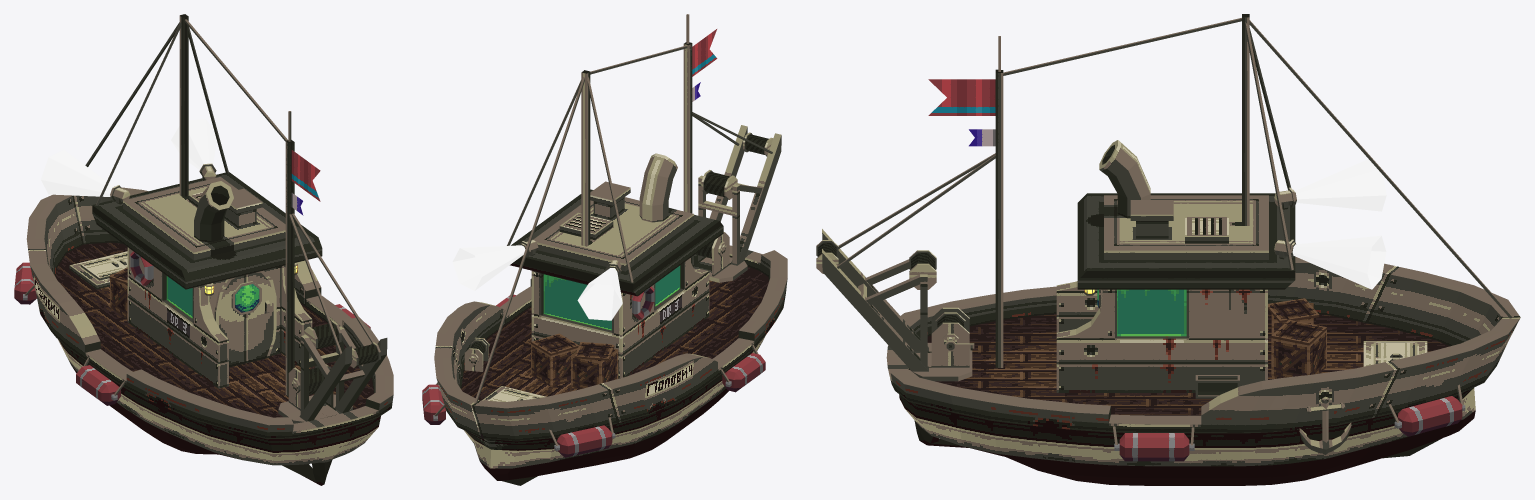
The model's file is Boat2.glb.
The picture shows the model from 3 angles, left to right: view 1: azimuth 30°, elevation 25°; view 2: azimuth 150°, elevation 25°; view 3: azimuth 270°, elevation 25°; orthographic projection. The views are drawn at different scales.
Visible parts, largest first — view 1: boat.001, roof.001, cabin.001, poles, winch.001, door, rope, floodlight.002, Buoey, chimney, floodlight.003, crate closed (+6 smaller); view 2: boat.001, roof.001, cabin.001, winch.001, poles, crate closed, rope, Buoey, windows, floodlight.003, chimney, floodlight.002 (+3 smaller); view 3: boat.001, roof.001, cabin.001, winch.001, poles, rope, Buoey, crate closed, windows, floodlight.003, floodlight.002, chimney (+3 smaller).
Part boxes in pixels (bbox=[...]): boat.001: bbox=[26, 186, 393, 485]; roof.001: bbox=[92, 172, 322, 289]; cabin.001: bbox=[127, 247, 312, 388]; poles: bbox=[179, 14, 320, 396]; winch.001: bbox=[278, 326, 387, 423]; door: bbox=[214, 270, 276, 367]; rope: bbox=[85, 19, 374, 355]; floodlight.002: bbox=[41, 149, 113, 196]; Buoey: bbox=[14, 262, 370, 405]; chimney: bbox=[194, 181, 233, 242]; floodlight.003: bbox=[171, 119, 216, 169]; crate closed: bbox=[109, 267, 127, 319]; boat.001: bbox=[434, 245, 787, 485]; roof.001: bbox=[510, 181, 723, 296]; cabin.001: bbox=[531, 258, 709, 378]; winch.001: bbox=[692, 125, 781, 282]; poles: bbox=[581, 29, 717, 264]; crate closed: bbox=[531, 333, 618, 388]; rope: bbox=[474, 14, 772, 403]; Buoey: bbox=[422, 294, 765, 457]; windows: bbox=[543, 265, 680, 330]; floodlight.003: bbox=[452, 245, 525, 290]; chimney: bbox=[639, 153, 677, 222]; floodlight.002: bbox=[577, 268, 622, 320]; boat.001: bbox=[886, 256, 1520, 485]; roof.001: bbox=[1077, 193, 1295, 289]; cabin.001: bbox=[1056, 281, 1267, 392]; winch.001: bbox=[822, 229, 972, 381]; poles: bbox=[928, 14, 1249, 367]; rope: bbox=[837, 18, 1512, 318]; Buoey: bbox=[1112, 384, 1465, 461]; crate closed: bbox=[1268, 298, 1326, 377]; windows: bbox=[1117, 289, 1186, 336]; floodlight.003: bbox=[1292, 235, 1386, 289]; floodlight.002: bbox=[1294, 157, 1386, 211]; chimney: bbox=[1099, 140, 1150, 218].
Bounding box in the file's own units: 17.25 × 23.56 × 33.6.
Materials: 6 (5 with a texture image).
